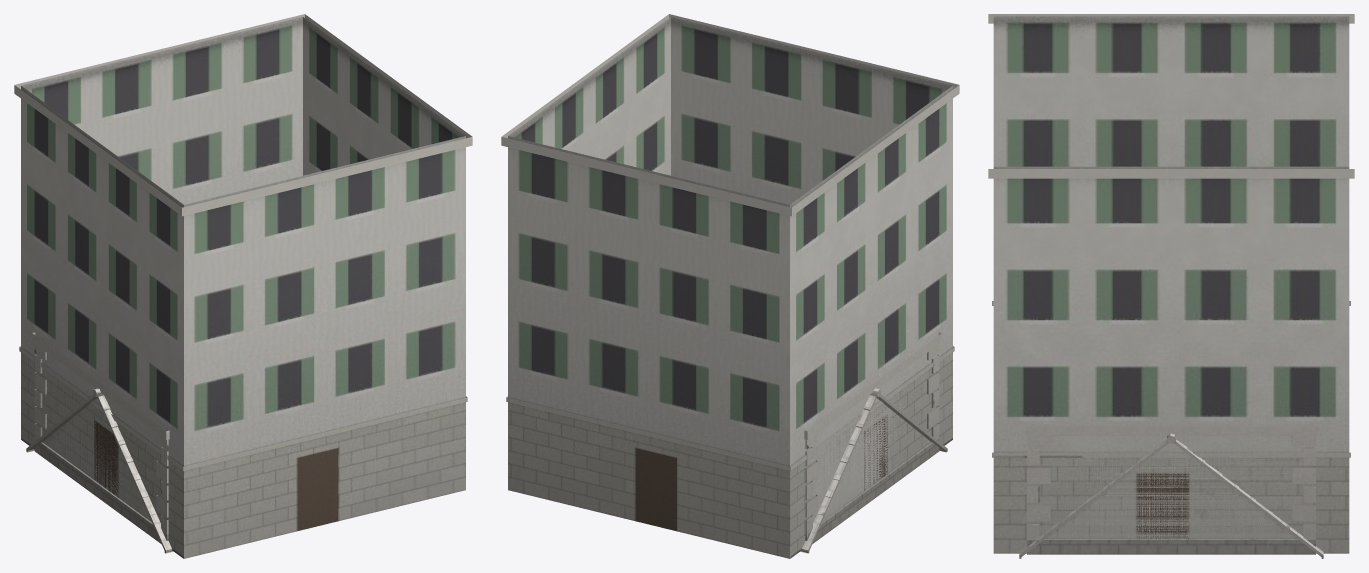
File: houses.glb
3 renders of one model, left to right at view 1: azimuth 30°, elevation 25°; view 2: azimuth 150°, elevation 25°; view 3: azimuth 270°, elevation 25°, orthographic. The views are drawn at different scales.
Parts seen in each view (by area): view 1: vwalls, walls, gables, roof, walls_lo, roof_lo; view 2: vwalls, walls, roof, walls_lo, roof_lo; view 3: vwalls, walls, gables, walls_lo, roof, roof_lo.
Boxes of the visible parts, x1,y1,x2,y2 form: vwalls: [14, 14, 472, 558]; walls: [34, 334, 168, 543]; gables: [46, 407, 151, 521]; roof: [26, 388, 173, 553]; walls_lo: [32, 332, 169, 439]; roof_lo: [104, 409, 171, 550]; vwalls: [501, 14, 959, 558]; walls: [805, 344, 939, 543]; roof: [800, 388, 947, 553]; walls_lo: [804, 332, 941, 439]; roof_lo: [802, 409, 869, 550]; vwalls: [988, 14, 1354, 553]; walls: [1027, 424, 1315, 554]; gables: [1048, 449, 1294, 539]; walls_lo: [1025, 426, 1317, 435]; roof: [1019, 433, 1323, 558]; roof_lo: [1019, 449, 1323, 554].
Size of the model in its own units: 10.55 by 12.06 by 10.3.
1 material, 1 textured.
